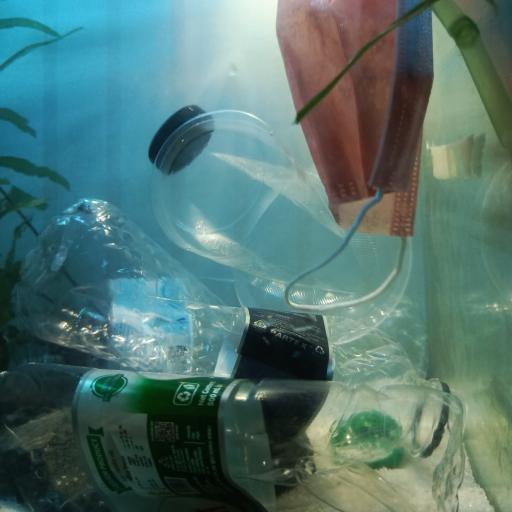bottle_cap: (146, 105, 214, 176)
mask: (278, 0, 438, 312)
plastic_bottle: (14, 194, 464, 456), (1, 362, 468, 512), (42, 278, 430, 381)
plastic_cup: (151, 108, 413, 332)
plastic_straw: (429, 0, 512, 157)
